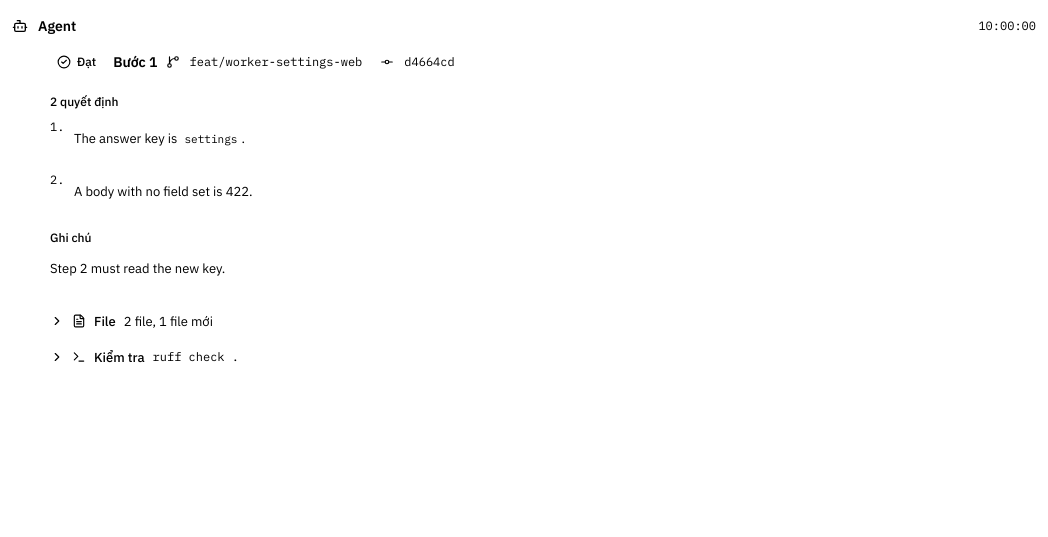
Test: AgentTrace › shows a step's report as a card, its verify folded when it passed
Expected: the element with test id "trace-report-result" reads "Đạt", [77,54,96,69]
Expected: the element with test id "trace-report-notes" reads "Step 2 must read the new key.", [50,260,225,277]
Click the text "Kiểm tra": click(119, 357) [94,348,144,367]
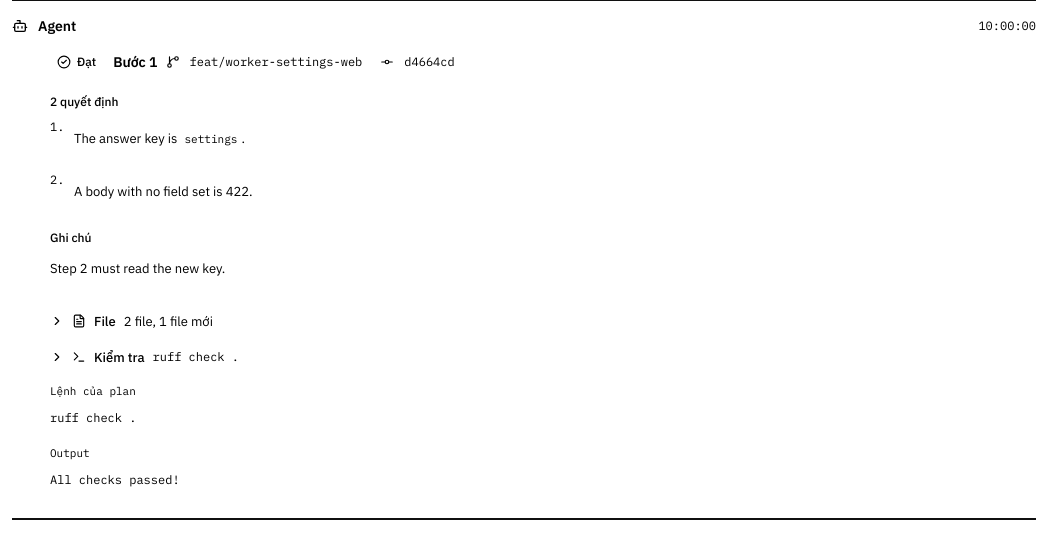
Now the element with test id "trace-report-output" shows "All checks passed!", box [50,472,180,487]
